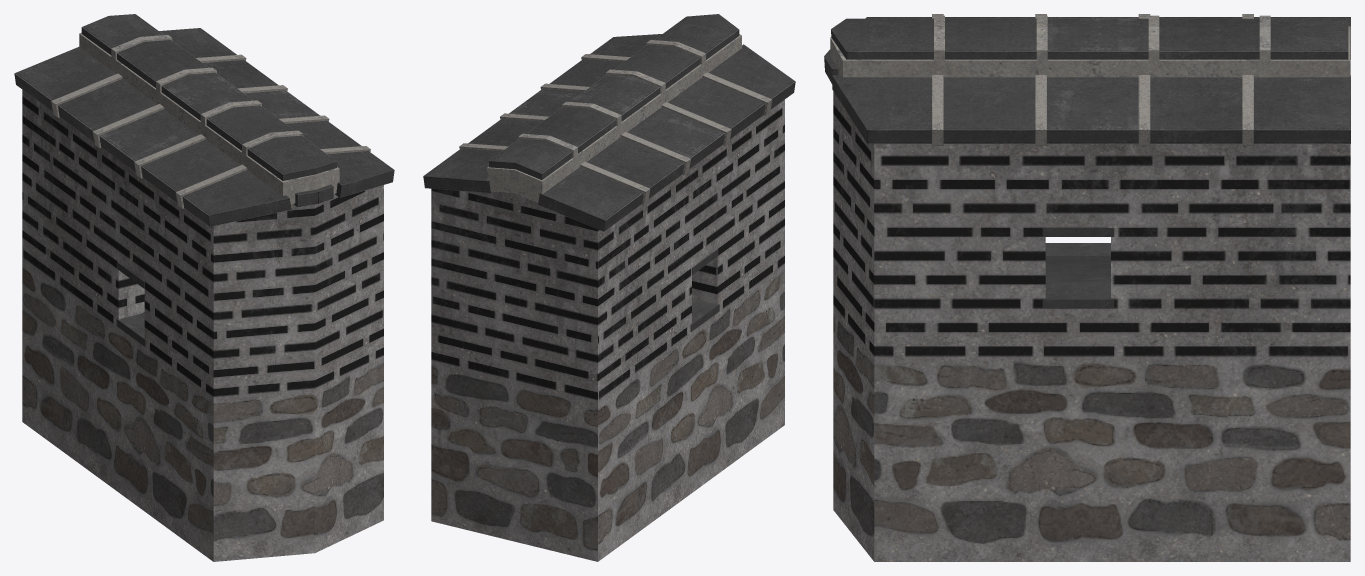
Rendered from SM_Battlement04a.fbx.
The picture shows the model from 3 angles, left to right: view 1: azimuth 30°, elevation 25°; view 2: azimuth 150°, elevation 25°; view 3: azimuth 270°, elevation 25°; orthographic projection. The views are drawn at different scales.
Parts seen in each view (by area): view 1: SM_Battlement04a; view 2: SM_Battlement04a; view 3: SM_Battlement04a.
Part boxes in pixels (x1=…): SM_Battlement04a: x1=14, y1=14, x2=394, y2=561; SM_Battlement04a: x1=423, y1=14, x2=795, y2=561; SM_Battlement04a: x1=824, y1=14, x2=1350, y2=561.
Size of the model in its own units: 101 by 194 by 196.
Materials: 1 (1 with a texture image).
